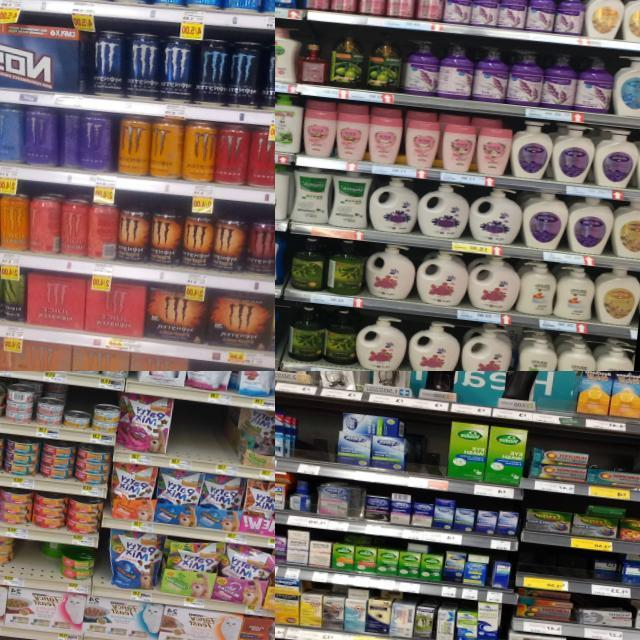empty: (170, 401, 227, 473), (290, 400, 340, 477), (400, 414, 450, 489), (514, 543, 585, 593), (532, 371, 577, 425), (452, 371, 499, 416), (12, 542, 38, 587)
